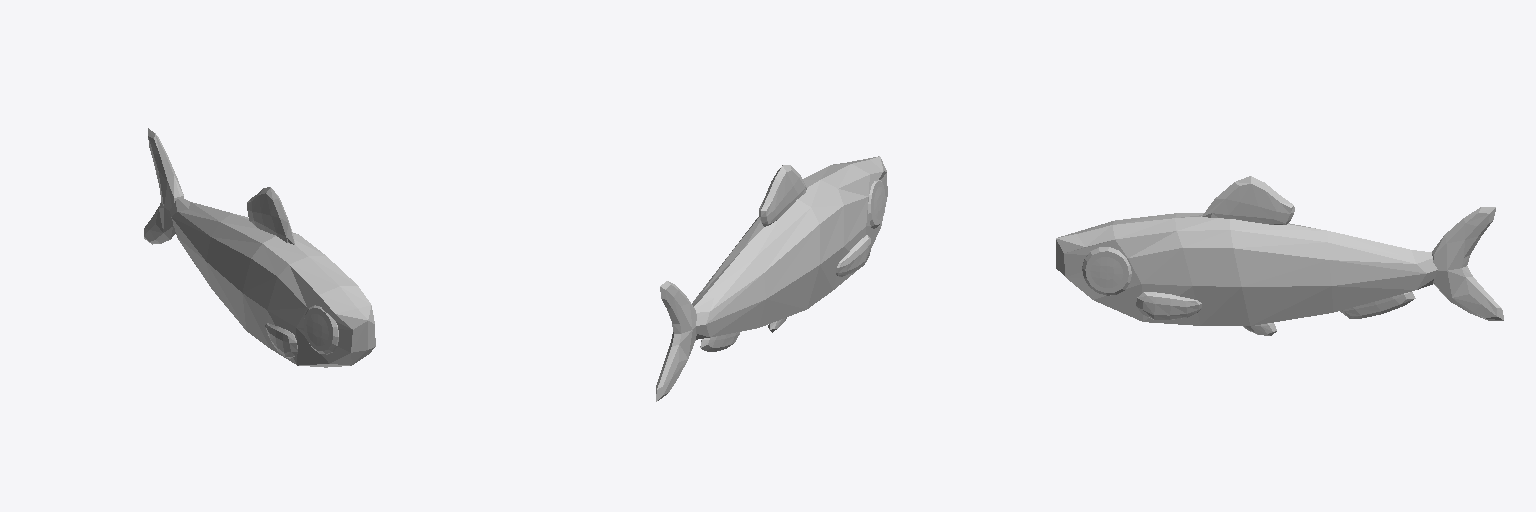
Rendered from Herring_LOD1.obj.
The picture shows the model from 3 angles: view 1: azimuth 30°, elevation 25°; view 2: azimuth 150°, elevation 25°; view 3: azimuth 270°, elevation 25°; orthographic projection.
Parts seen in each view (by area): view 1: Mesh_Herring_LOD1; view 2: Mesh_Herring_LOD1; view 3: Mesh_Herring_LOD1.
Boxes of the visible parts, x1,y1,x2,y2 form: Mesh_Herring_LOD1: [144, 128, 375, 367]; Mesh_Herring_LOD1: [656, 156, 887, 401]; Mesh_Herring_LOD1: [1056, 176, 1503, 335].
Size of the model in its own units: 0.2028 by 0.4345 by 1.1.